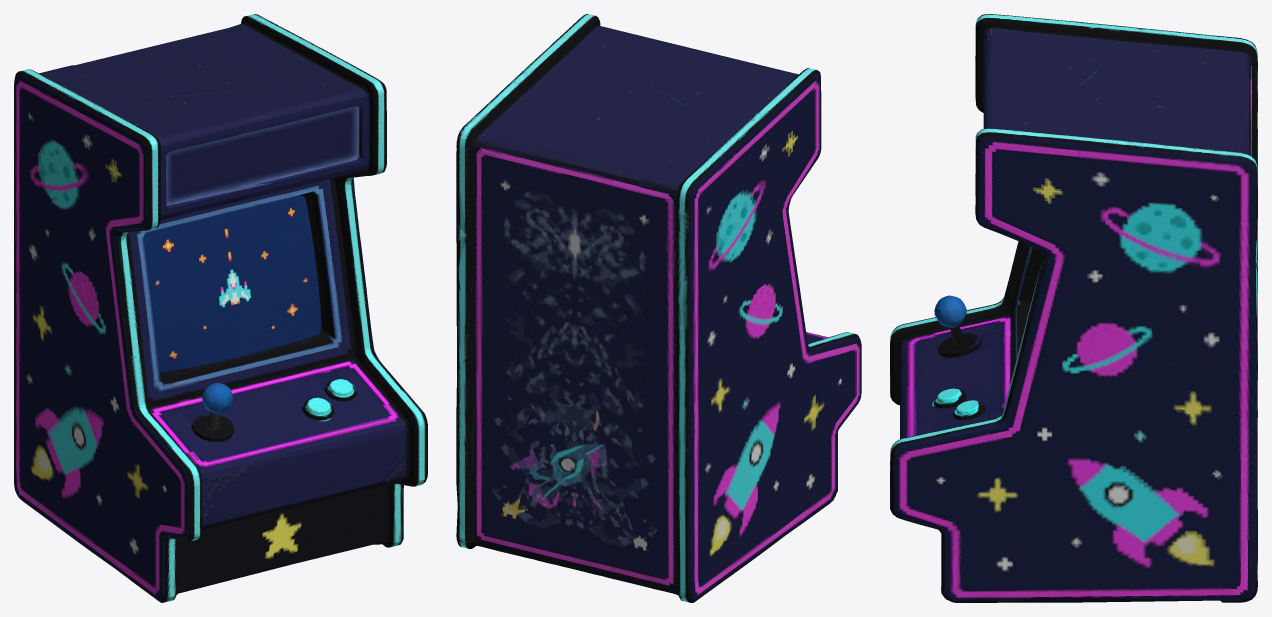
Rendered from maquina-fondo-naves.glb.
3 renders of one model, left to right at view 1: azimuth 30°, elevation 25°; view 2: azimuth 150°, elevation 25°; view 3: azimuth 270°, elevation 25°, orthographic. The views are drawn at different scales.
Parts seen in each view (by area): view 1: Mesh_0; view 2: Mesh_0; view 3: Mesh_0.
Part boxes in pixels (left/top/right/bottom): Mesh_0: left=14, top=14, right=427, bottom=602; Mesh_0: left=456, top=14, right=861, bottom=602; Mesh_0: left=890, top=14, right=1257, bottom=602.
Size of the model in its own units: 1.06 by 1.9 by 1.35.
Materials: 1 (1 with a texture image).
